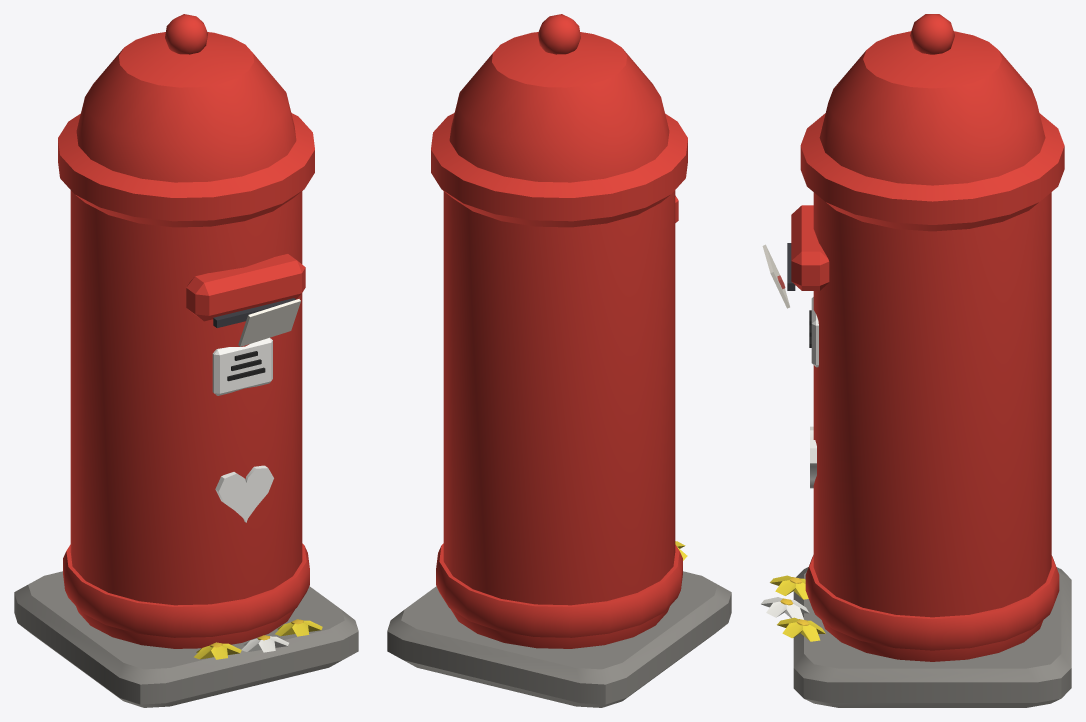
The model's file is furn_mailbox_red.glb.
3 views of the same model, side by side, from view 1: azimuth 30°, elevation 25°; view 2: azimuth 150°, elevation 25°; view 3: azimuth 270°, elevation 25° (orthographic). The views are drawn at different scales.
Visible parts, largest first — view 1: furn_mailbox_red_body; view 2: furn_mailbox_red_body; view 3: furn_mailbox_red_body.
Part boxes in pixels (x1,y1,x2,y2): furn_mailbox_red_body: (14,14,358,707); furn_mailbox_red_body: (387,14,731,707); furn_mailbox_red_body: (761,14,1071,707).
Size of the model in its own units: 0.32 by 0.811 by 0.3582.
